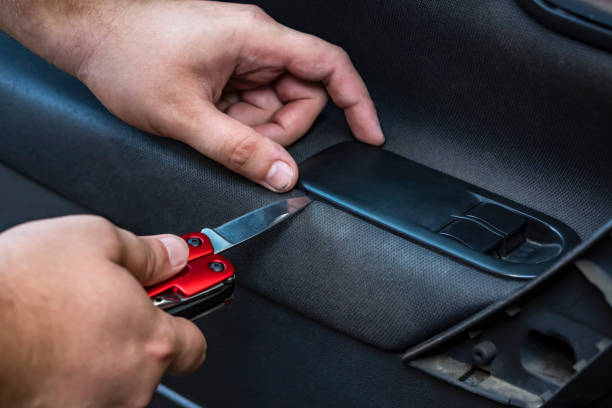knife: (148, 196, 315, 323)
